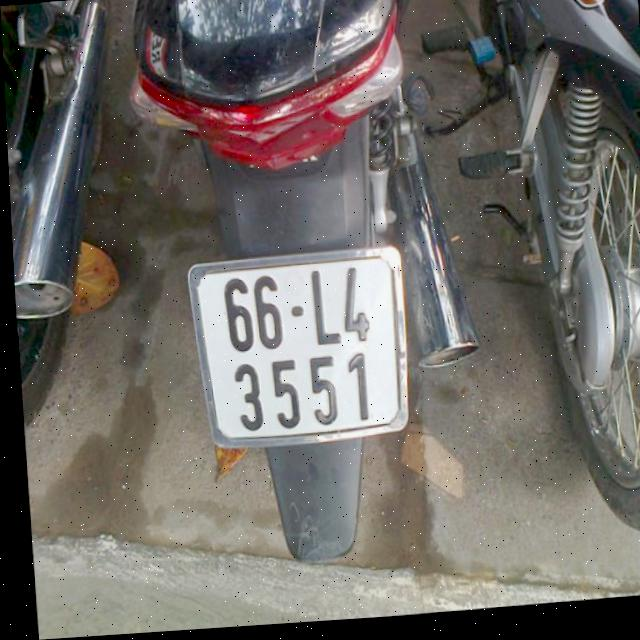motorcycle: (119, 0, 497, 582), (437, 0, 640, 565), (0, 0, 166, 434)
plate: (185, 241, 415, 457)
